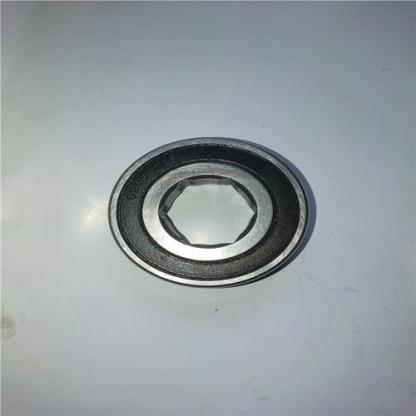FOD: (101, 131, 318, 293)
